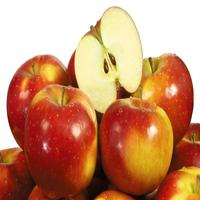apple: (12, 88, 102, 187), (67, 8, 153, 110), (101, 101, 182, 187), (139, 49, 200, 146), (10, 52, 69, 151)
